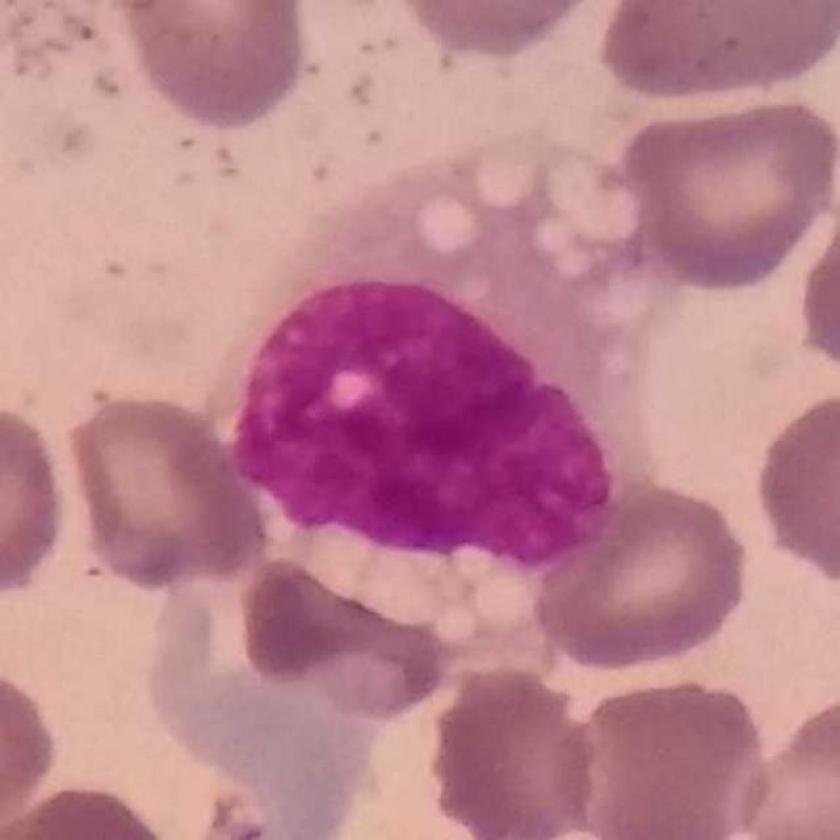monocyte: (215, 130, 660, 605)
